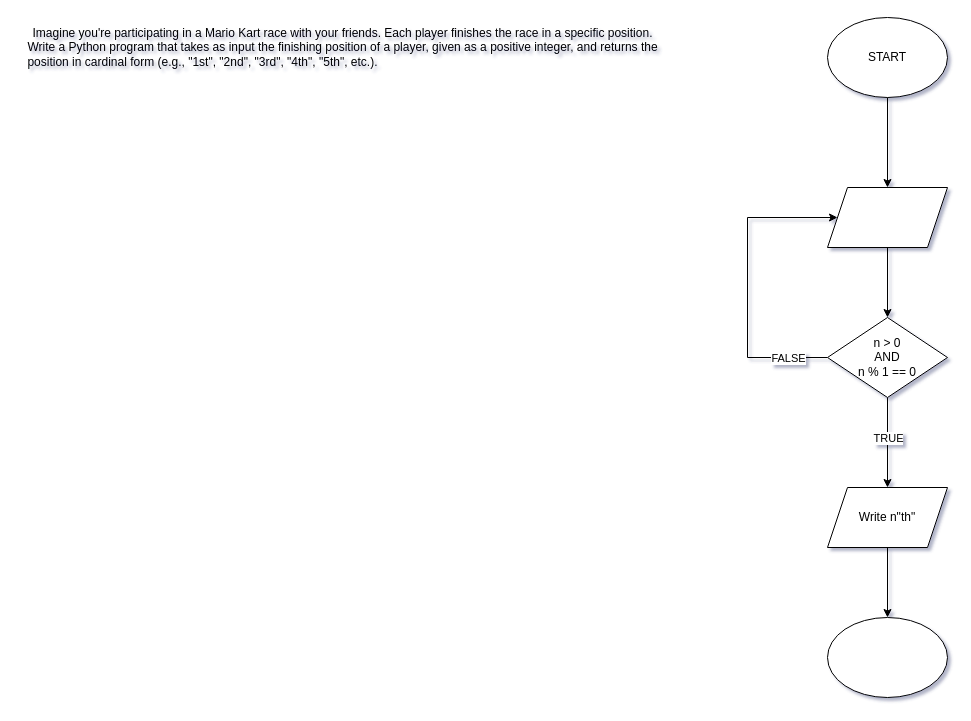
Image size: 971x721. Some labels were removed from this diagram. Each missing label, with the centre of its shape:
END: the point at 887,657
Read n: the point at 887,217
